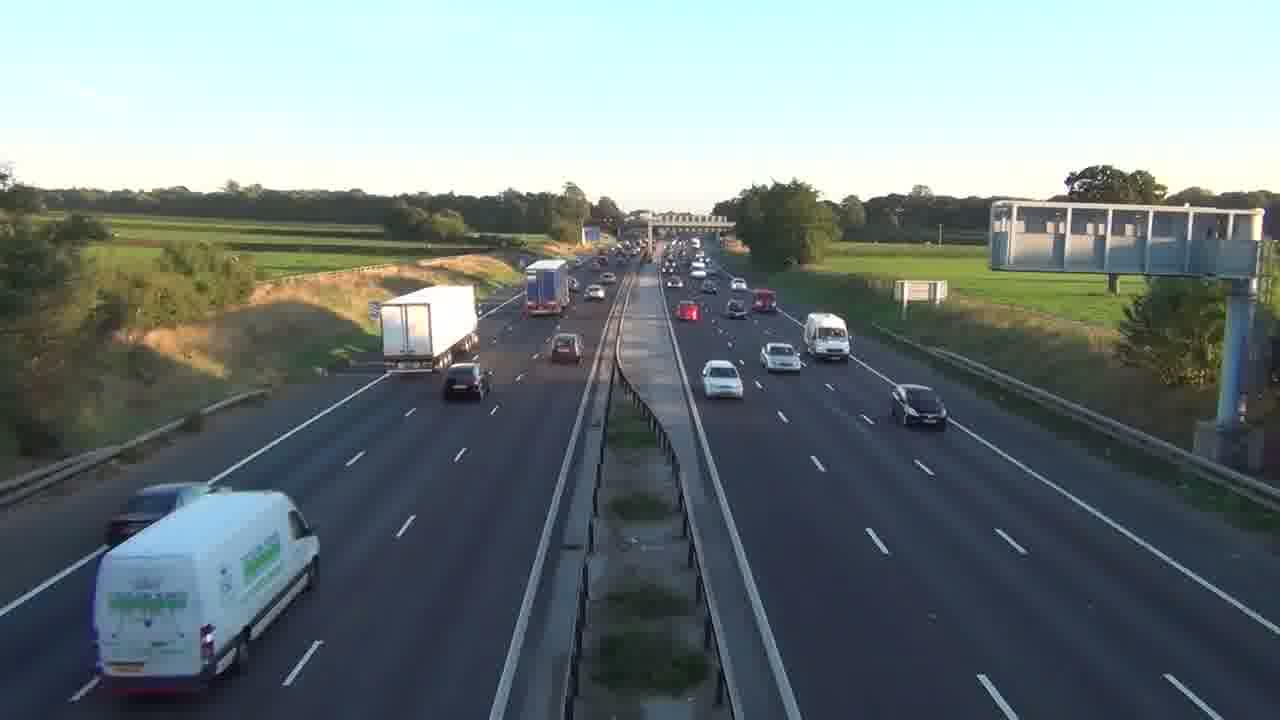car: (890, 383, 947, 429), (701, 359, 744, 399), (443, 362, 485, 402), (760, 341, 803, 374)
truck: (92, 488, 321, 697), (380, 284, 478, 372), (801, 312, 850, 363)
